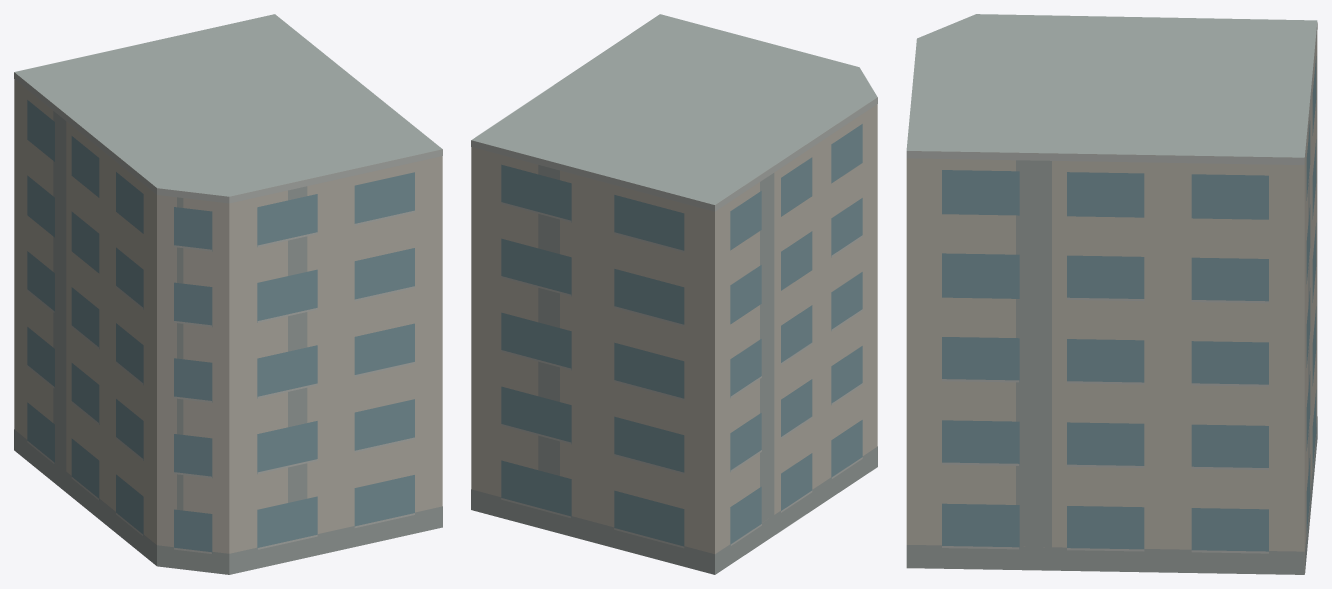
The model's file is survey-upis-32951530.glb.
3 views of the same model, side by side, from view 1: azimuth 30°, elevation 25°; view 2: azimuth 150°, elevation 25°; view 3: azimuth 270°, elevation 25° (orthographic). The views are drawn at different scales.
Visible parts, largest first — view 1: survey-upis-32951530.tmp; view 2: survey-upis-32951530.tmp; view 3: survey-upis-32951530.tmp.
Boxes of the visible parts, x1=… form: survey-upis-32951530.tmp: x1=14, y1=14, x2=442, y2=574; survey-upis-32951530.tmp: x1=471, y1=14, x2=877, y2=574; survey-upis-32951530.tmp: x1=906, y1=14, x2=1317, y2=574.
Bounding box in the file's own units: 10.02 × 13.55 × 12.11.
